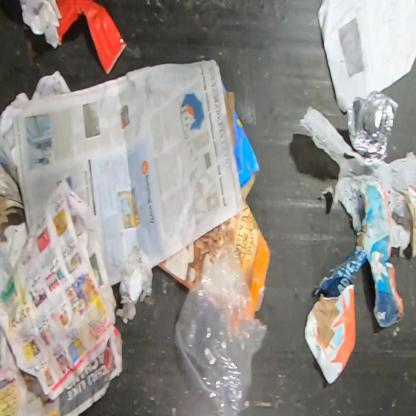cardboard: (157, 195, 271, 319), (223, 80, 262, 201), (0, 160, 26, 224)
metal: (346, 90, 400, 163)
rigid_plastic: (55, 0, 127, 75)
soft_plastic: (298, 104, 415, 260), (174, 244, 270, 415)
